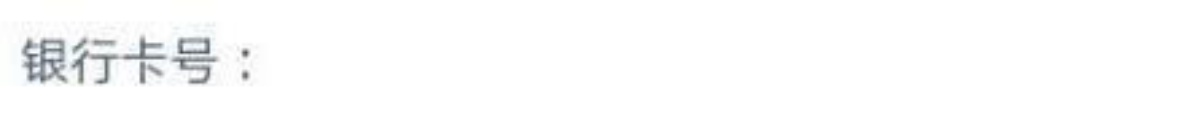EditText: (1, 1, 1199, 139)
